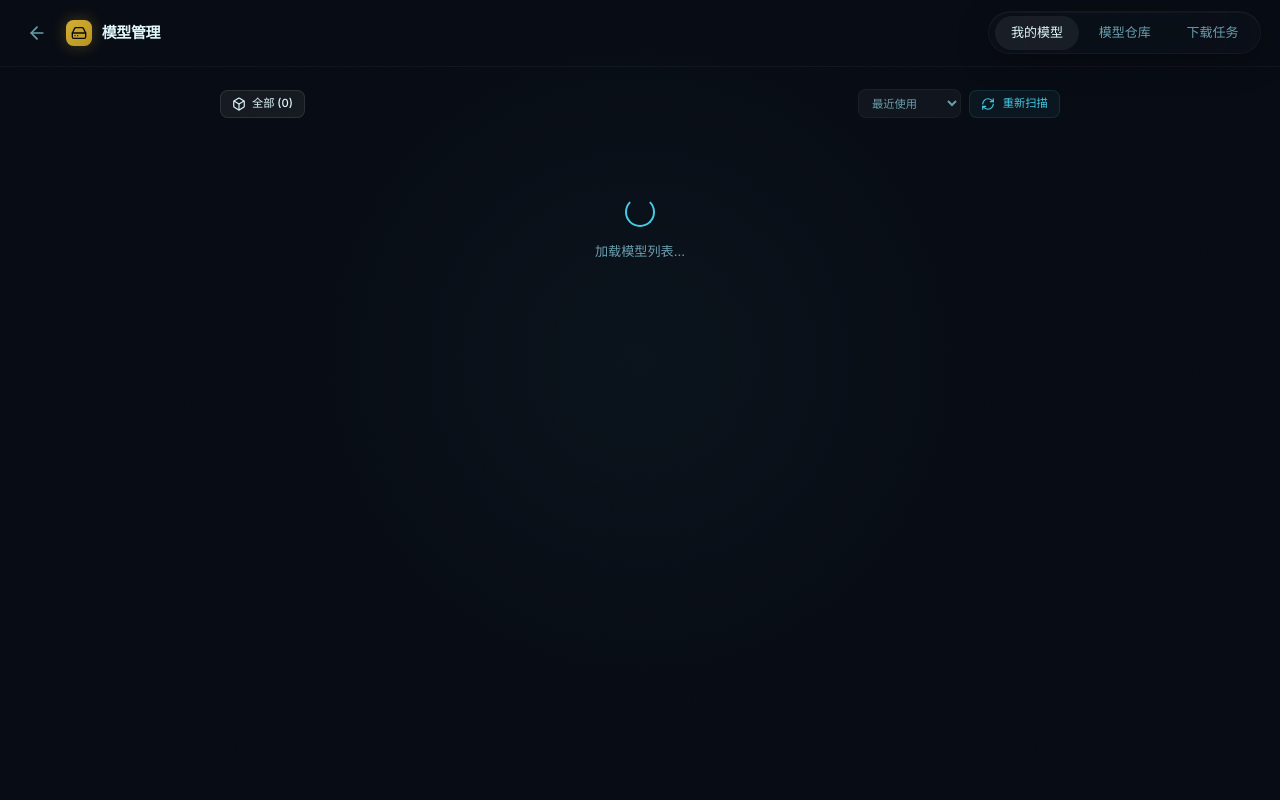
Test: ModelsPage - 模型仓库 › renders presets with 已下载 marker on installed entries (Req 3.1)
Click the button "模型仓库".
click(1125, 33)  # box left=1083, top=16, right=1167, bottom=50
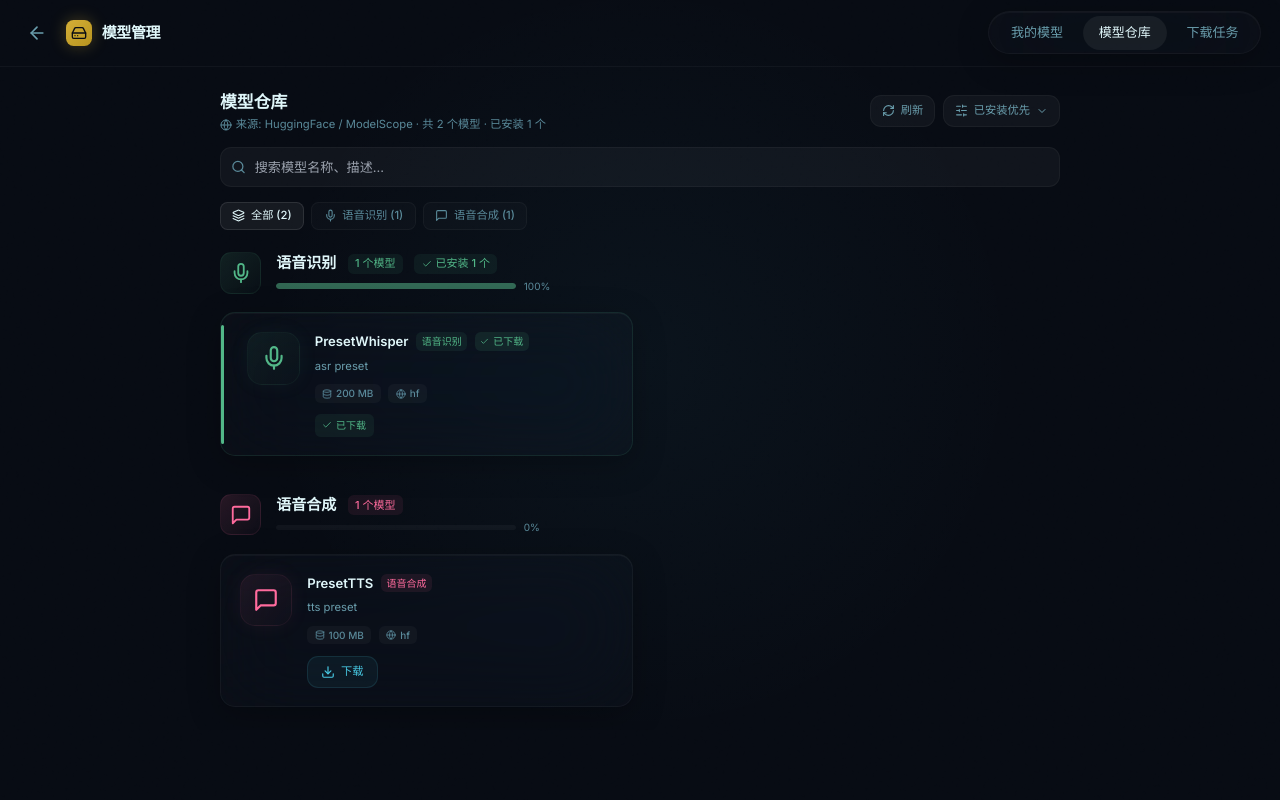
Check: the heading "PresetWhisper" is shown, box left=315, top=332, right=409, bottom=351
Check: the heading "PresetTTS" is shown, box left=307, top=574, right=373, bottom=592
Check: the text "已下载" in the row of "PresetWhisper" is shown, box left=493, top=335, right=523, bottom=347
